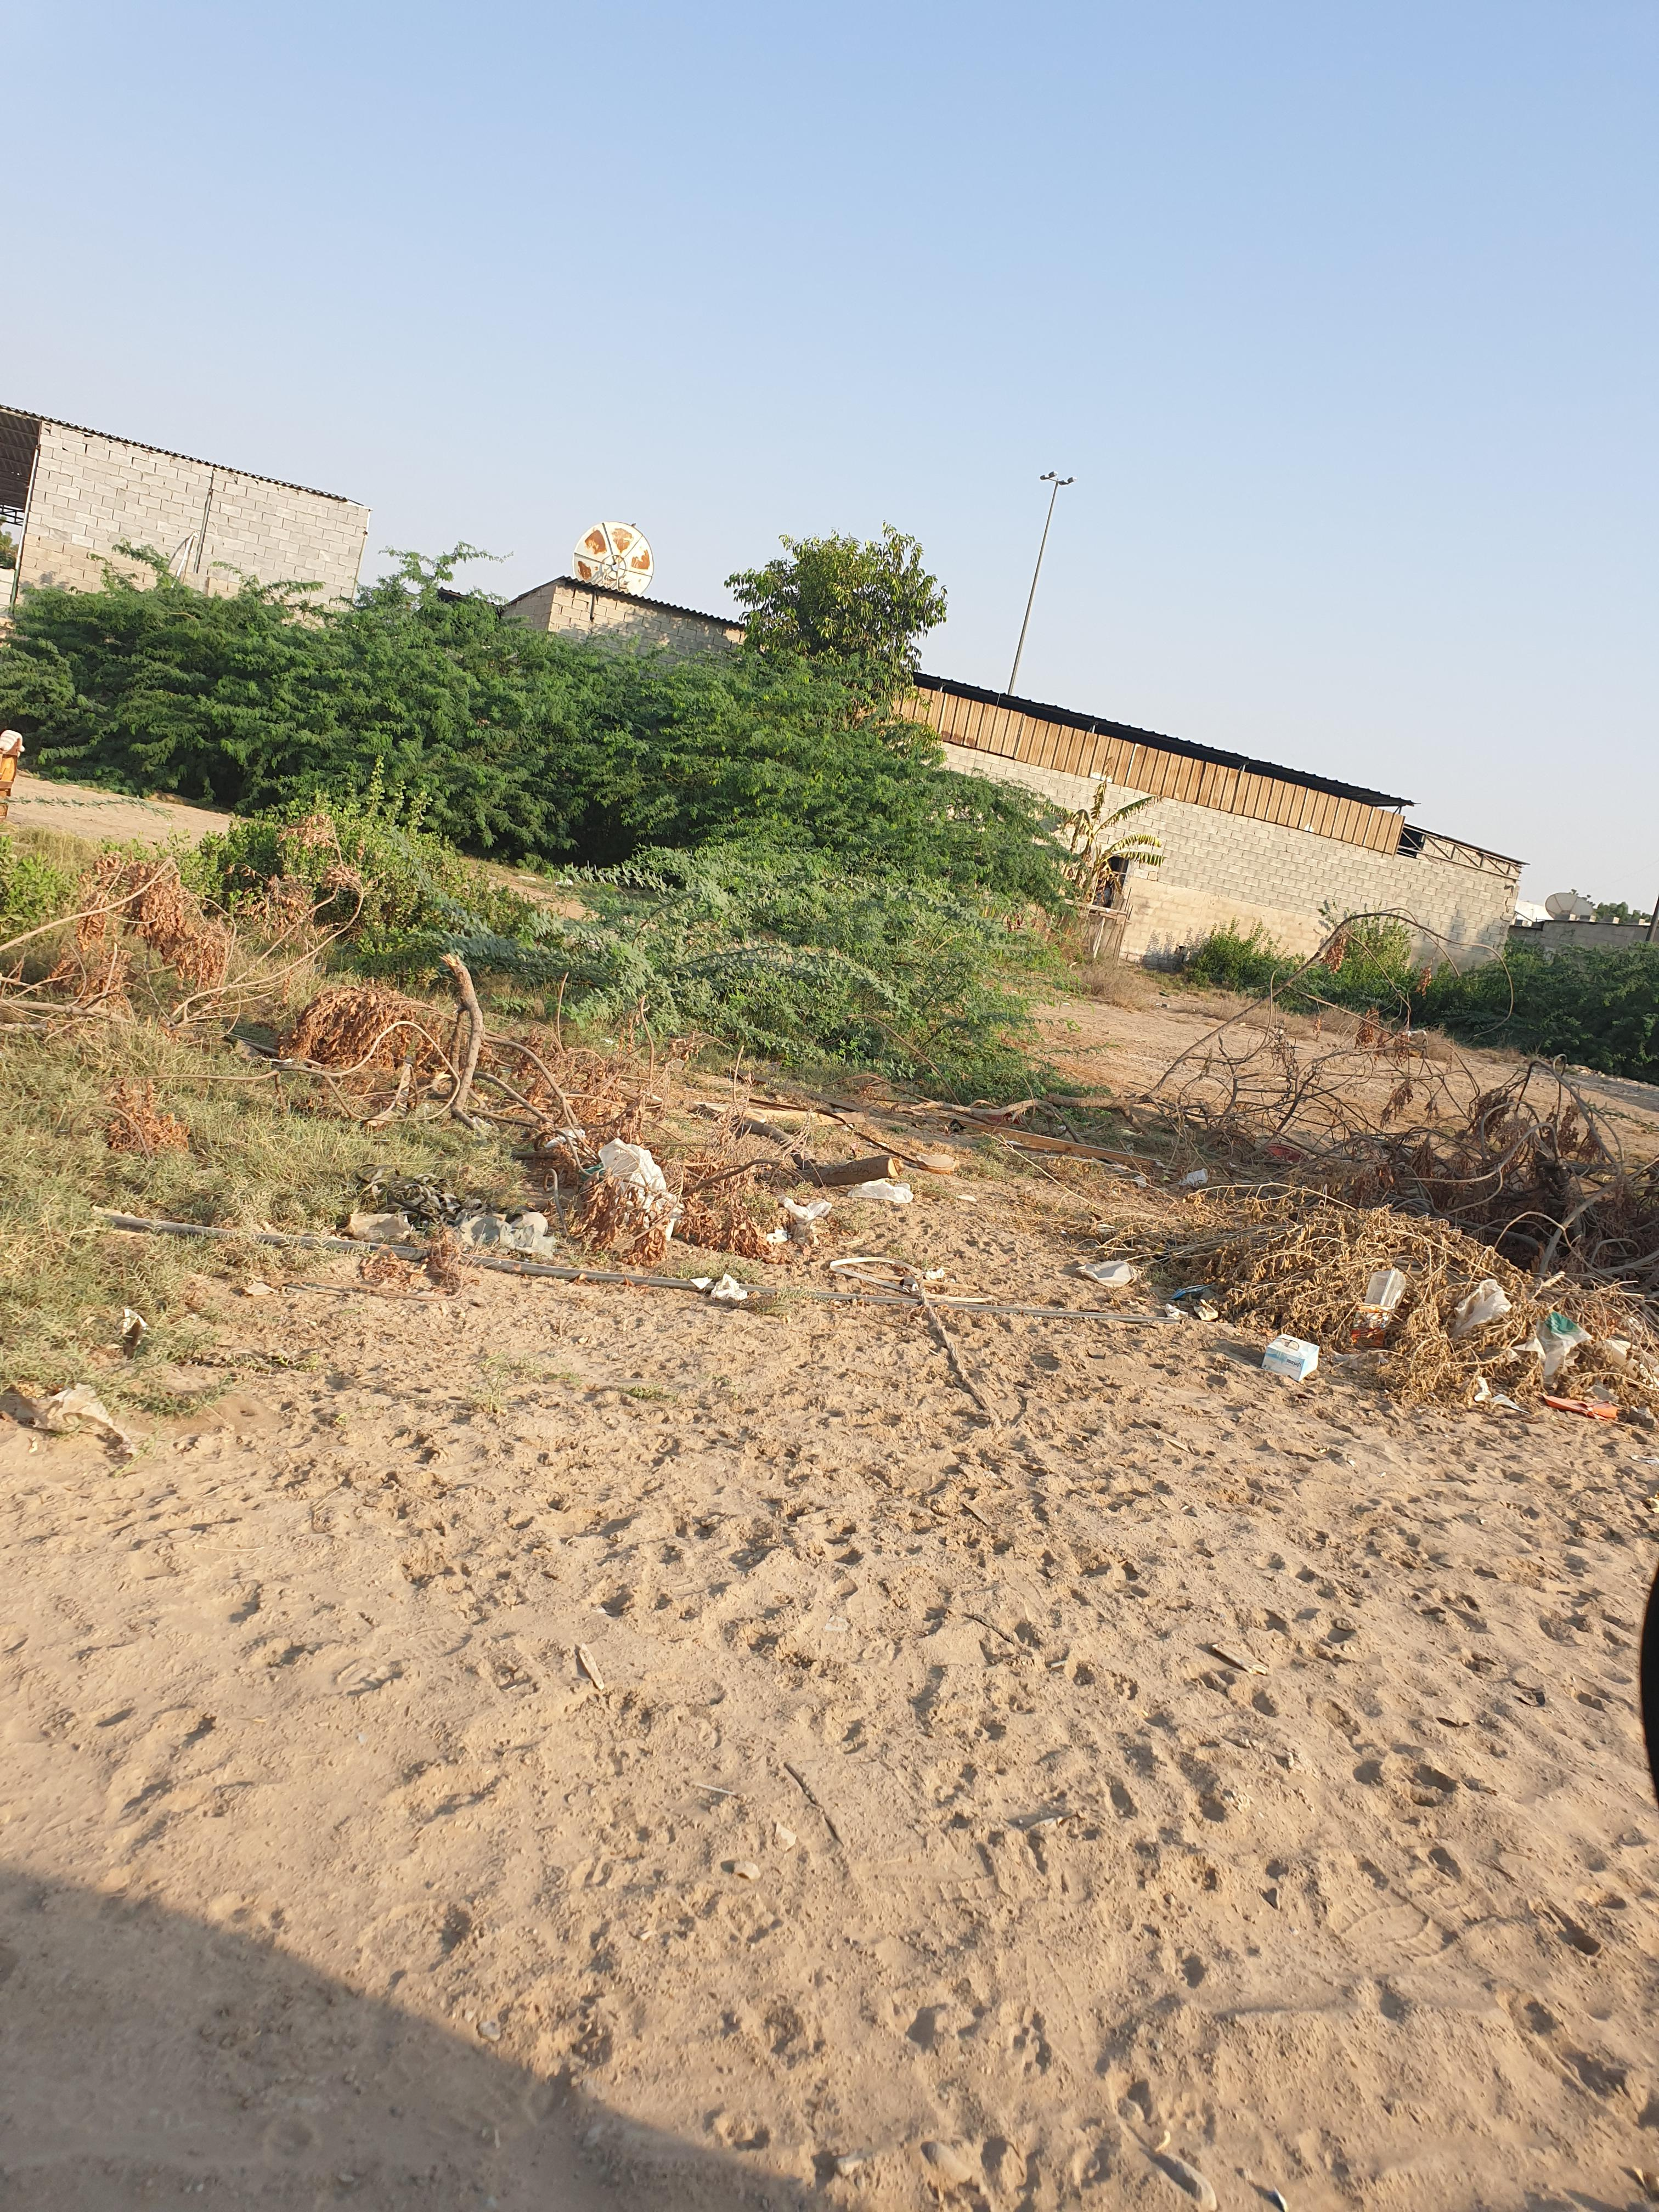fallen_trees: (279, 993, 1028, 1322), (1161, 1007, 1619, 1416), (1075, 1179, 1645, 1430), (481, 1064, 931, 1317)
